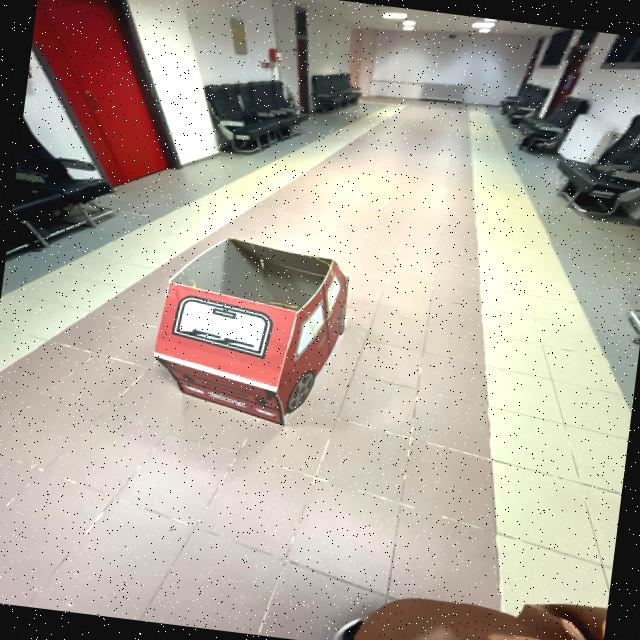red_car: (122, 224, 376, 443)
